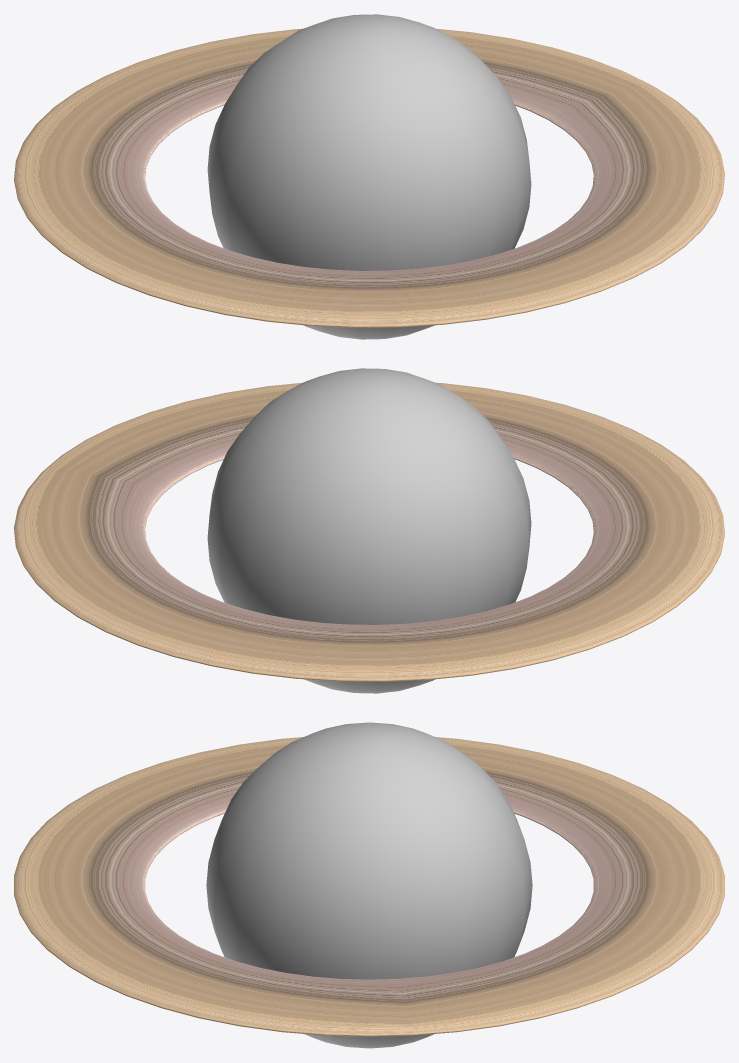
Rendered from planetssaturn.fbx.
The picture shows the model from 3 angles, top to bottom: view 1: azimuth 30°, elevation 25°; view 2: azimuth 150°, elevation 25°; view 3: azimuth 270°, elevation 25°; orthographic projection.
Parts seen in each view (by area): view 1: pTorus1, pSphere1; view 2: pTorus1, pSphere1; view 3: pTorus1, pSphere1.
Part boxes in pixels (x1=…): pTorus1: x1=14, y1=28, x2=724, y2=327; pSphere1: x1=207, y1=14, x2=531, y2=339; pTorus1: x1=14, y1=382, x2=724, y2=681; pSphere1: x1=207, y1=368, x2=531, y2=693; pTorus1: x1=14, y1=737, x2=724, y2=1036; pSphere1: x1=206, y1=722, x2=532, y2=1048.
Size of the model in its own units: 24.72 by 11.32 by 24.68.
